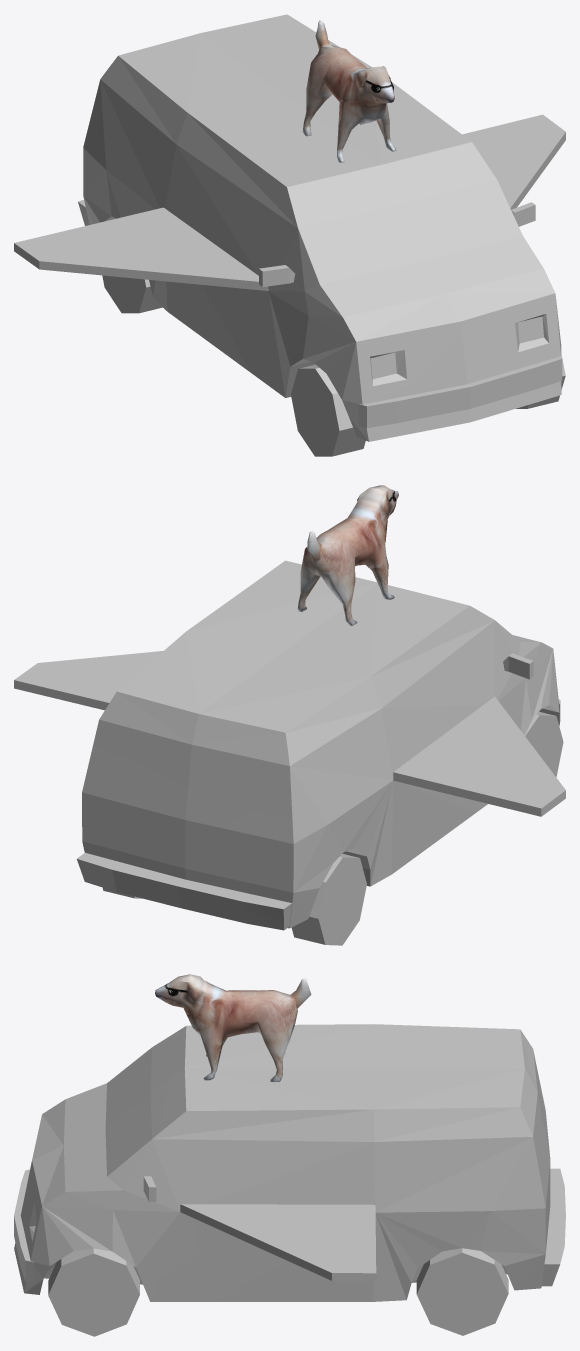
The model's file is ship.obj.
3 renders of one model, top to bottom at view 1: azimuth 30°, elevation 25°; view 2: azimuth 150°, elevation 25°; view 3: azimuth 270°, elevation 25°, orthographic. The views are drawn at different scales.
Parts seen in each view (by area): view 1: Car4, Cube.001; view 2: Car4, Cube.001; view 3: Car4, Cube.001.
Boxes of the visible parts, x1=… form: Car4: x1=14, y1=14, x2=565, y2=456; Cube.001: x1=302, y1=20, x2=395, y2=162; Car4: x1=14, y1=560, x2=565, y2=945; Cube.001: x1=297, y1=485, x2=398, y2=625; Car4: x1=14, y1=1024, x2=565, y2=1336; Cube.001: x1=155, y1=974, x2=311, y2=1082.
Size of the model in its own units: 6.58 by 3.88 by 6.3.
